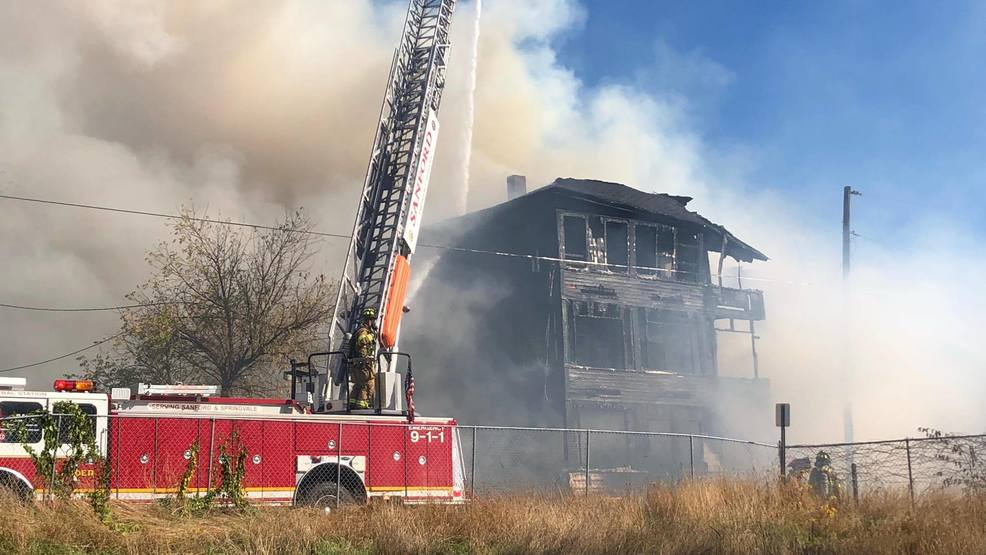smoke: (19, 12, 341, 312), (417, 238, 773, 472)
